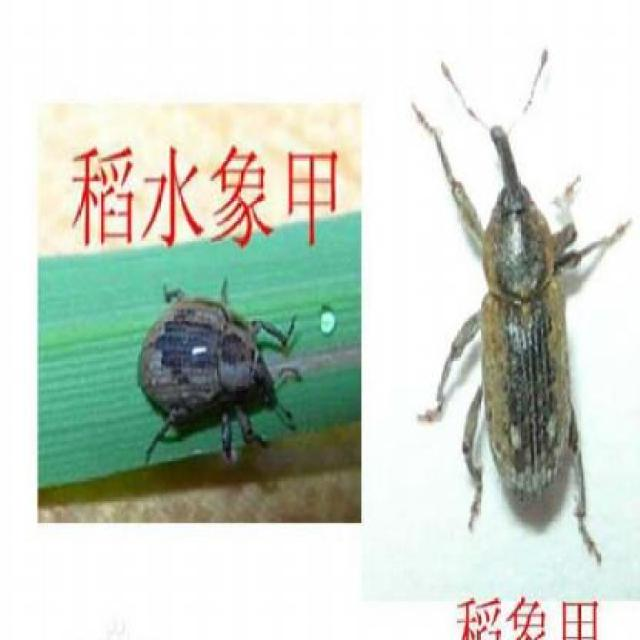rice-bug: (442, 92, 609, 536), (137, 280, 300, 462)
